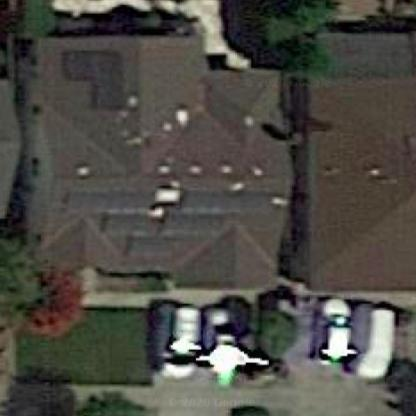car: (153, 294, 204, 384), (353, 292, 400, 389), (302, 296, 350, 386), (206, 304, 245, 383)
solar_panel: (60, 185, 282, 266), (61, 48, 135, 120)
